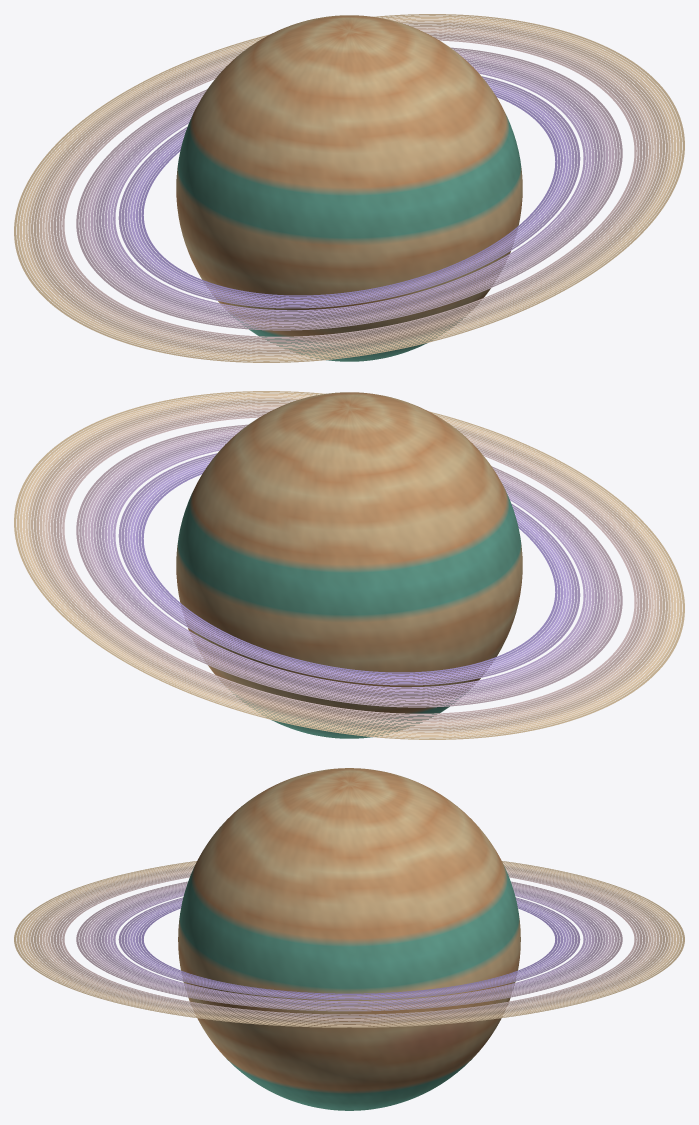
The model's file is RingedGasGiant.glb.
3 renders of one model, top to bottom at view 1: azimuth 30°, elevation 25°; view 2: azimuth 150°, elevation 25°; view 3: azimuth 270°, elevation 25°, orthographic.
Parts seen in each view (by area): view 1: Cloud layers, Planetary rings; view 2: Cloud layers, Planetary rings; view 3: Cloud layers, Planetary rings.
Boxes of the visible parts, left/top/right/bottom form: Cloud layers: left=176, top=15, right=522, bottom=361; Planetary rings: left=14, top=14, right=684, bottom=362; Cloud layers: left=176, top=392, right=522, bottom=738; Planetary rings: left=14, top=391, right=684, bottom=739; Cloud layers: left=178, top=768, right=520, bottom=1110; Planetary rings: left=14, top=861, right=684, bottom=1027.
Size of the model in its own units: 3.86 by 2 by 3.91.
